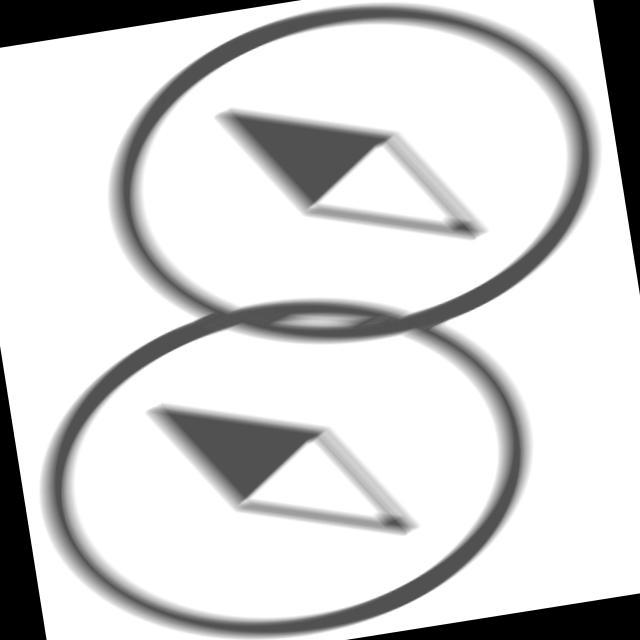compass: (4, 245, 577, 640), (75, 1, 639, 398)
